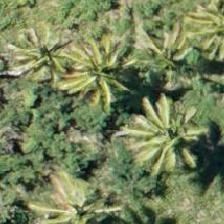coconut_tree: (122, 8, 212, 98), (72, 20, 162, 110), (114, 79, 204, 169), (0, 5, 78, 95), (36, 166, 126, 223), (172, 0, 223, 74)
